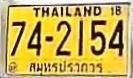1: (77, 20, 82, 56)
2: (55, 20, 70, 55)
4: (108, 19, 123, 55), (27, 20, 40, 55)
5: (90, 19, 106, 55)
7: (11, 20, 25, 55)
SPK: (28, 60, 104, 76)
